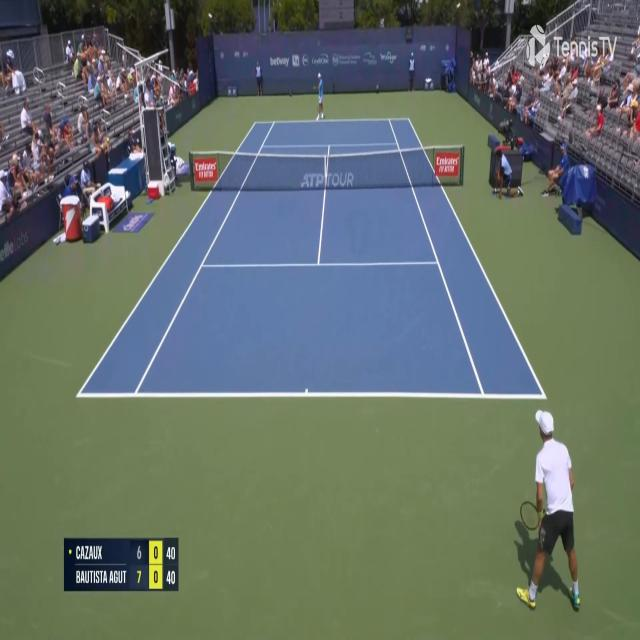tennis-player: (510, 404, 584, 613), (314, 71, 326, 123)
